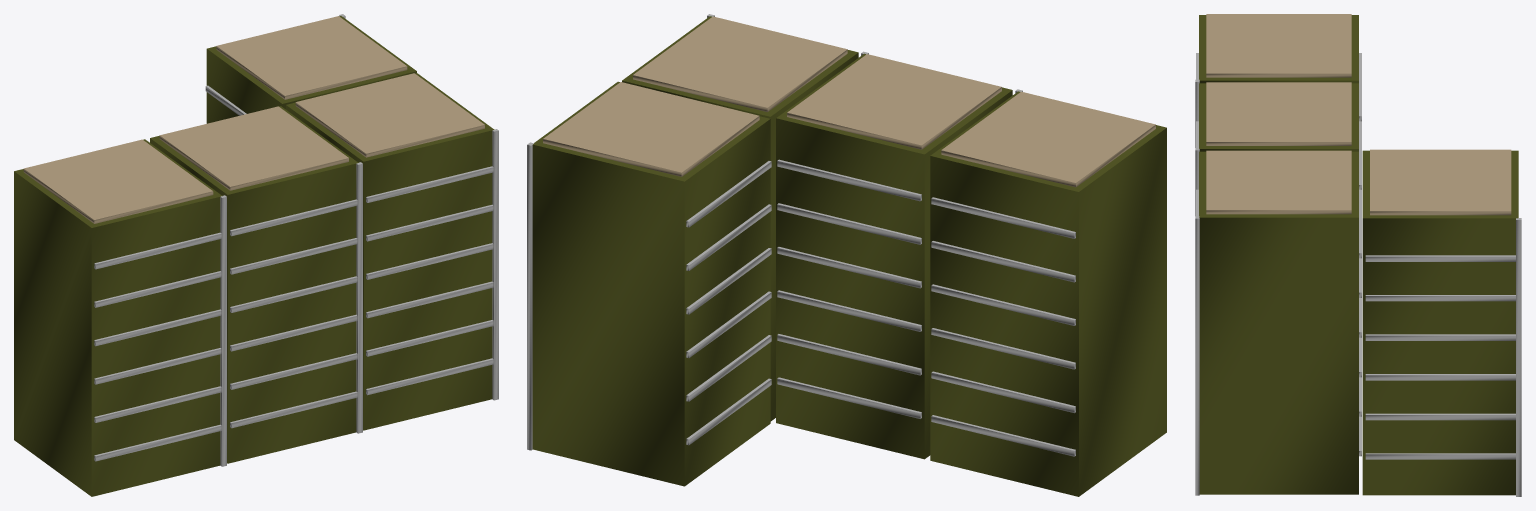
File: SM_HescoRemateEspejo_v1_Geotextil_e0_Sano_LOD0.fbx
The picture shows the model from 3 angles, left to right: view 1: azimuth 30°, elevation 25°; view 2: azimuth 150°, elevation 25°; view 3: azimuth 270°, elevation 25°; orthographic projection. The views are drawn at different scales.
Parts seen in each view (by area): view 1: SM_hesco_piezas_v24_LOD0; view 2: SM_hesco_piezas_v24_LOD0; view 3: SM_hesco_piezas_v24_LOD0.
Part boxes in pixels (x1,y1,x2,y2): SM_hesco_piezas_v24_LOD0: (14,14,498,496); SM_hesco_piezas_v24_LOD0: (527,14,1166,496); SM_hesco_piezas_v24_LOD0: (1195,14,1521,496).
Bounding box in the file's own units: 3.33 × 2.13 × 2.24.
